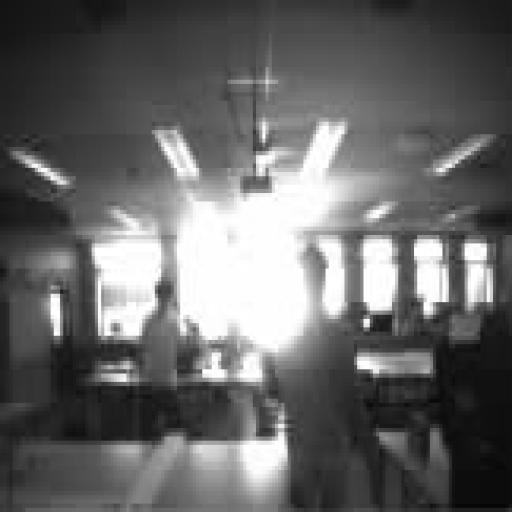human: (275, 244, 382, 511), (140, 277, 180, 436)
